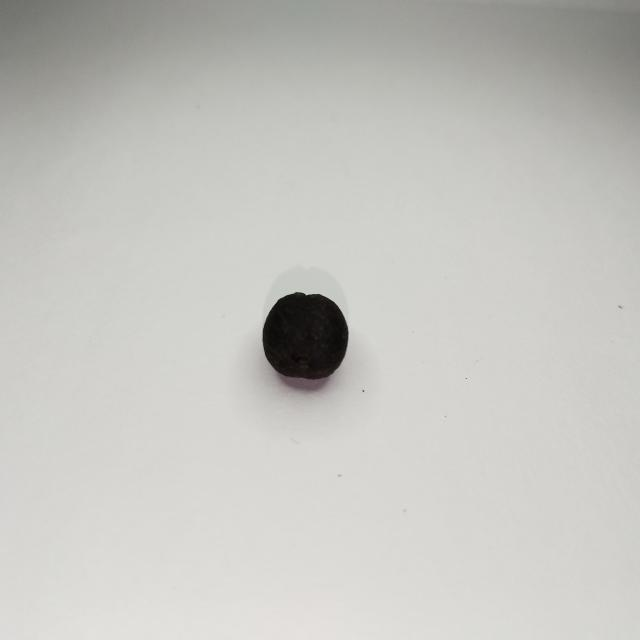Danado: (262, 292, 352, 383)
